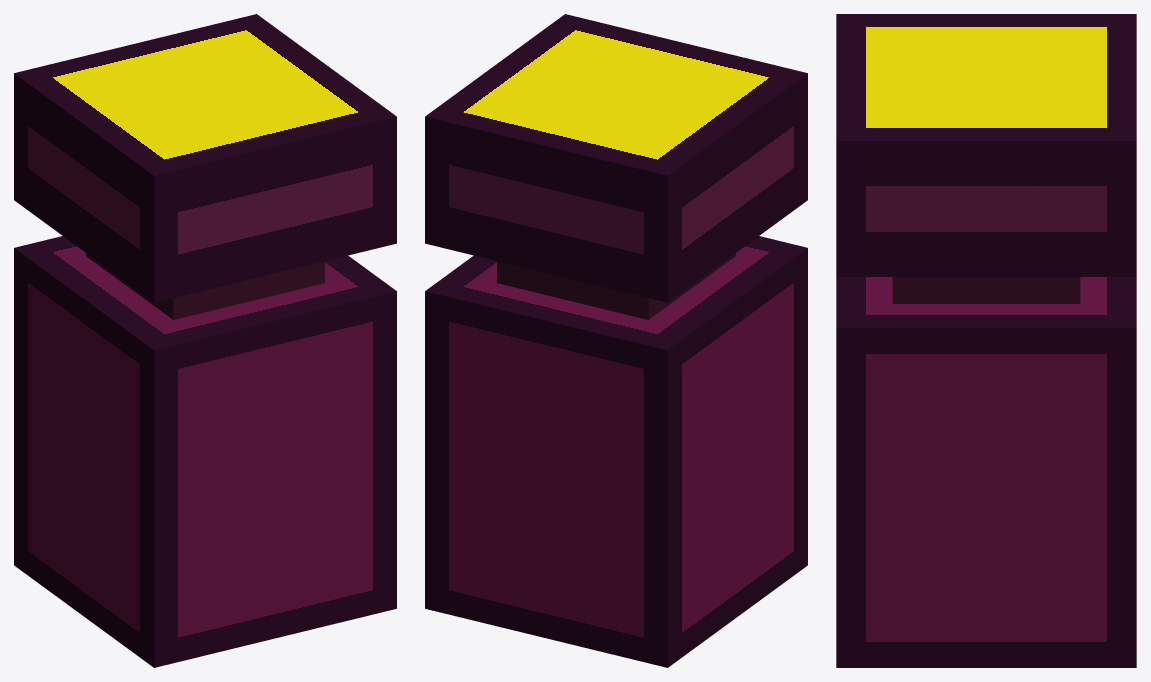
The model's file is Jarron.fbx.
3 renders of one model, left to right at view 1: azimuth 30°, elevation 25°; view 2: azimuth 150°, elevation 25°; view 3: azimuth 270°, elevation 25°, orthographic. The views are drawn at different scales.
Visible parts, largest first — view 1: mesh, mesh_2, mesh_1; view 2: mesh, mesh_2, mesh_1; view 3: mesh, mesh_2, mesh_1.
Part boxes in pixels (x1,y1,x2,y2): mesh: [14, 236, 396, 667]; mesh_2: [14, 14, 396, 302]; mesh_1: [86, 253, 324, 319]; mesh: [425, 236, 807, 667]; mesh_2: [425, 14, 807, 302]; mesh_1: [497, 253, 735, 319]; mesh: [836, 277, 1136, 667]; mesh_2: [836, 14, 1136, 276]; mesh_1: [892, 277, 1080, 303].
Size of the model in its own units: 50 by 96.88 by 50.
Materials: 3 (3 with a texture image).
